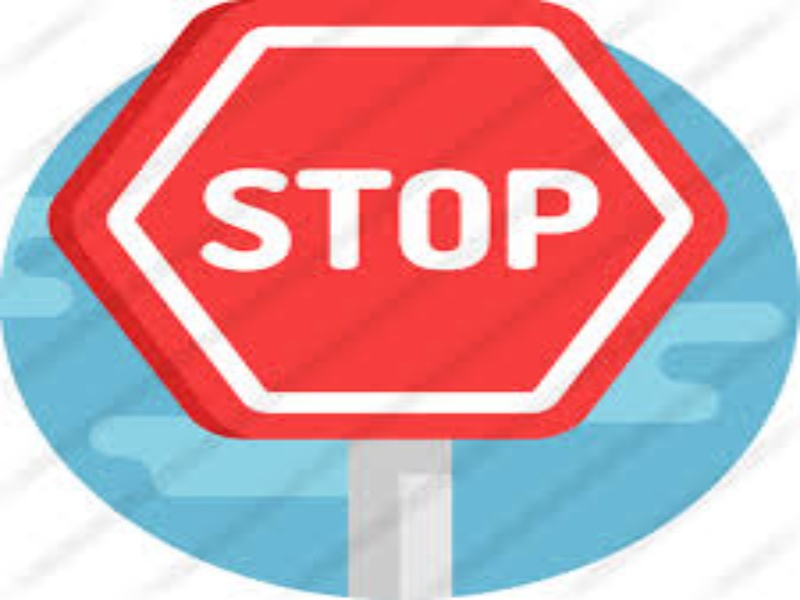Stop_Sign: (63, 7, 723, 435)
